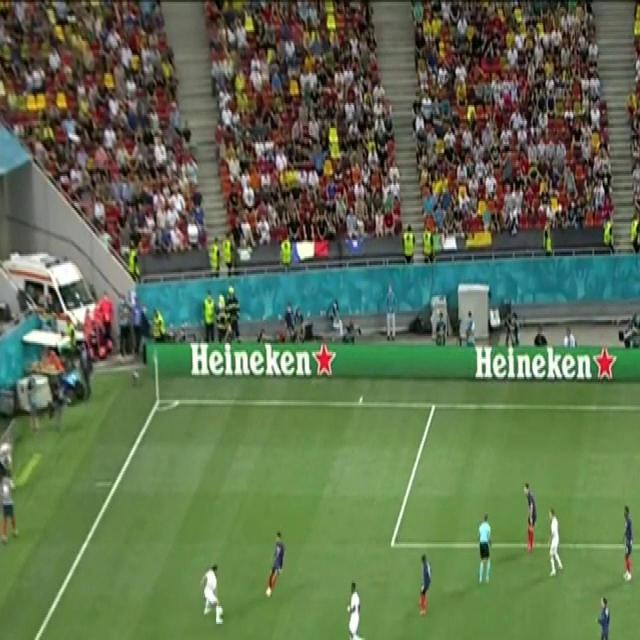Keeper: (476, 515, 494, 588)
another-player: (264, 530, 285, 597), (621, 506, 635, 584), (594, 592, 615, 640), (523, 482, 537, 554), (418, 552, 432, 618)
ball: (218, 604, 224, 618)
player-white: (199, 564, 225, 628), (547, 507, 564, 579), (346, 581, 365, 640)
